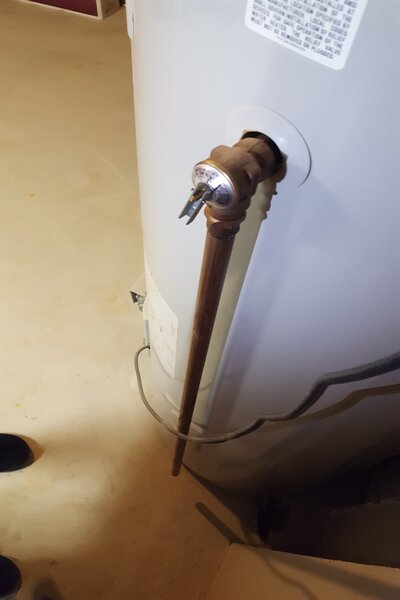valve: (178, 133, 280, 254)
